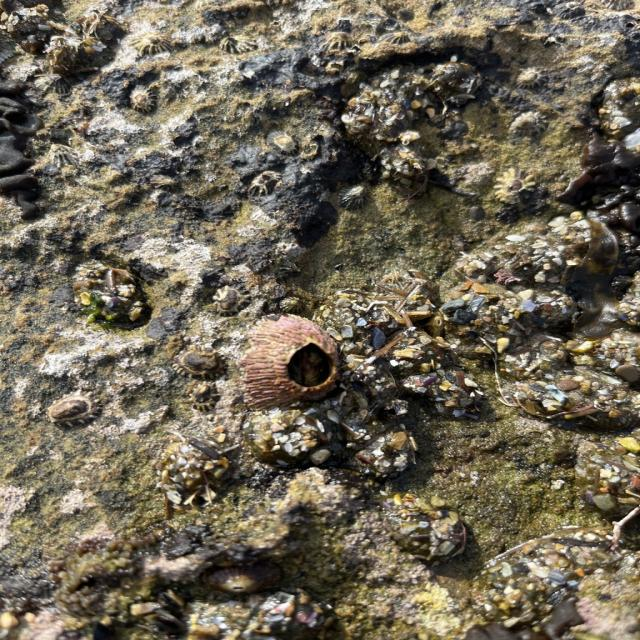barnacles: (237, 306, 351, 418)
